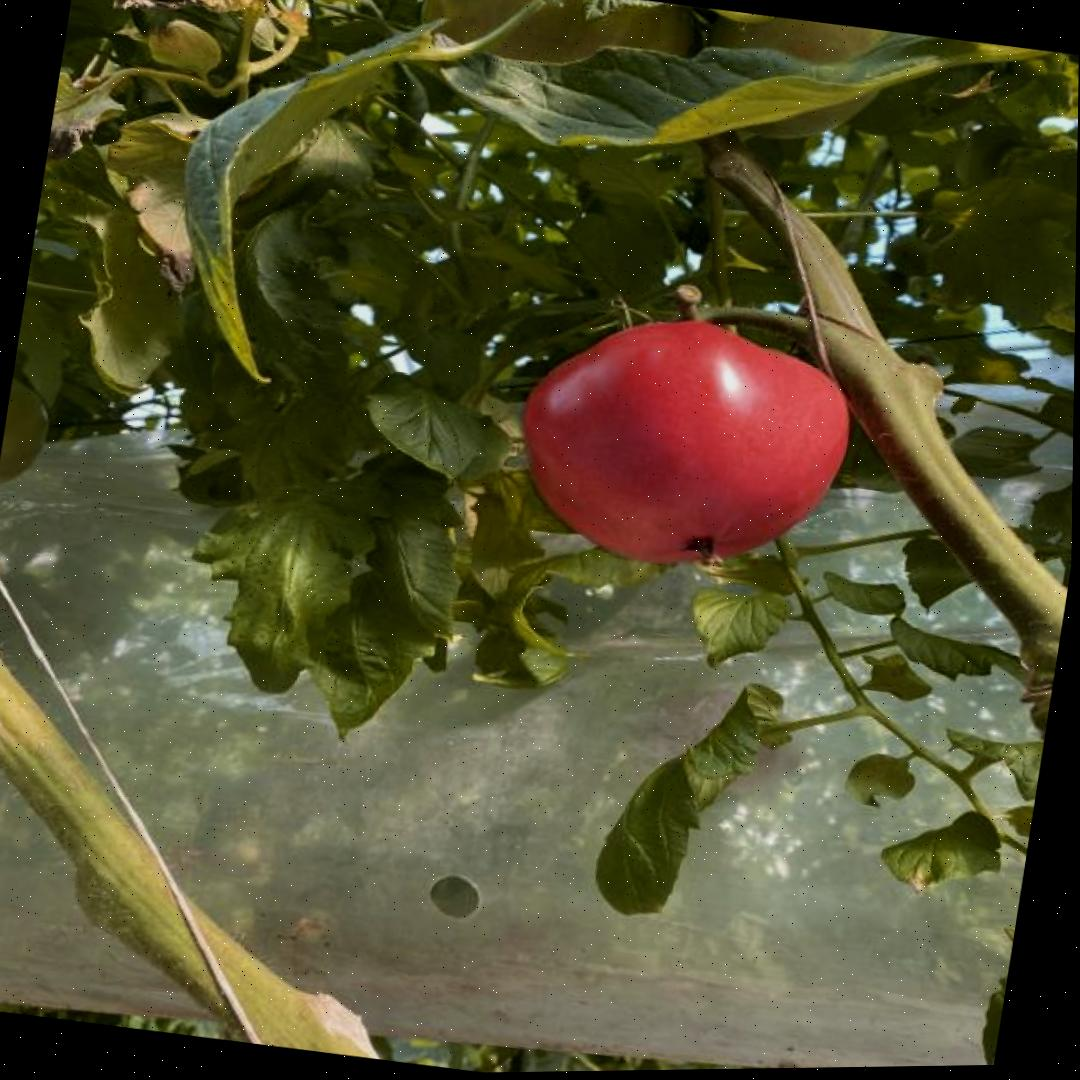matang: (503, 295, 867, 591)
